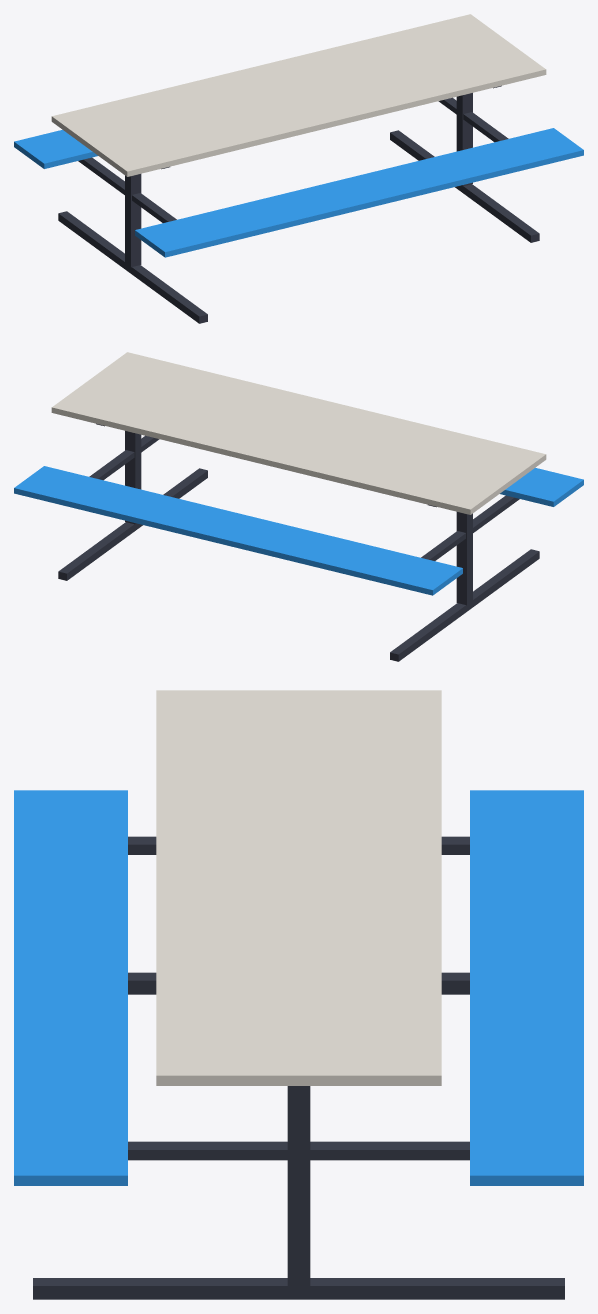
File: sch-041.glb
The picture shows the model from 3 angles, top to bottom: view 1: azimuth 30°, elevation 25°; view 2: azimuth 150°, elevation 25°; view 3: azimuth 270°, elevation 25°; orthographic projection. The views are drawn at different scales.
Visible parts, largest first — view 1: table_top, bench_2, foot_1, bench_1, foot_2, post_1, bench_arm_1, post_2, bench_arm_2; view 2: table_top, bench_1, foot_1, bench_2, foot_2, post_1, bench_arm_1, post_2, bench_arm_2; view 3: table_top, bench_1, bench_2, foot_2, bench_arm_2, post_2, foot_1, bench_arm_1.
Part boxes in pixels (x1,y1,x2,y2): table_top: [51, 14, 546, 176]; bench_2: [135, 128, 583, 257]; foot_1: [58, 211, 207, 323]; bench_1: [14, 130, 97, 168]; foot_2: [390, 130, 539, 242]; post_1: [125, 174, 141, 267]; bench_arm_1: [78, 157, 176, 222]; post_2: [456, 93, 472, 186]; bench_arm_2: [438, 97, 508, 142]; table_top: [51, 352, 546, 514]; bench_1: [14, 466, 462, 595]; foot_1: [390, 549, 539, 661]; bench_2: [500, 468, 583, 506]; foot_2: [58, 468, 207, 580]; post_1: [456, 512, 472, 605]; bench_arm_1: [421, 495, 519, 560]; post_2: [125, 431, 141, 524]; bench_arm_2: [89, 435, 159, 480]; table_top: [156, 690, 441, 1085]; bench_1: [470, 790, 583, 1185]; bench_2: [14, 790, 127, 1185]; foot_2: [33, 1278, 564, 1299]; bench_arm_2: [128, 1141, 469, 1160]; post_2: [287, 1086, 310, 1286]; foot_1: [128, 972, 469, 994]; bench_arm_1: [128, 836, 469, 854].
Bounding box in the file's own units: 2.4 × 0.755 × 1.5.
